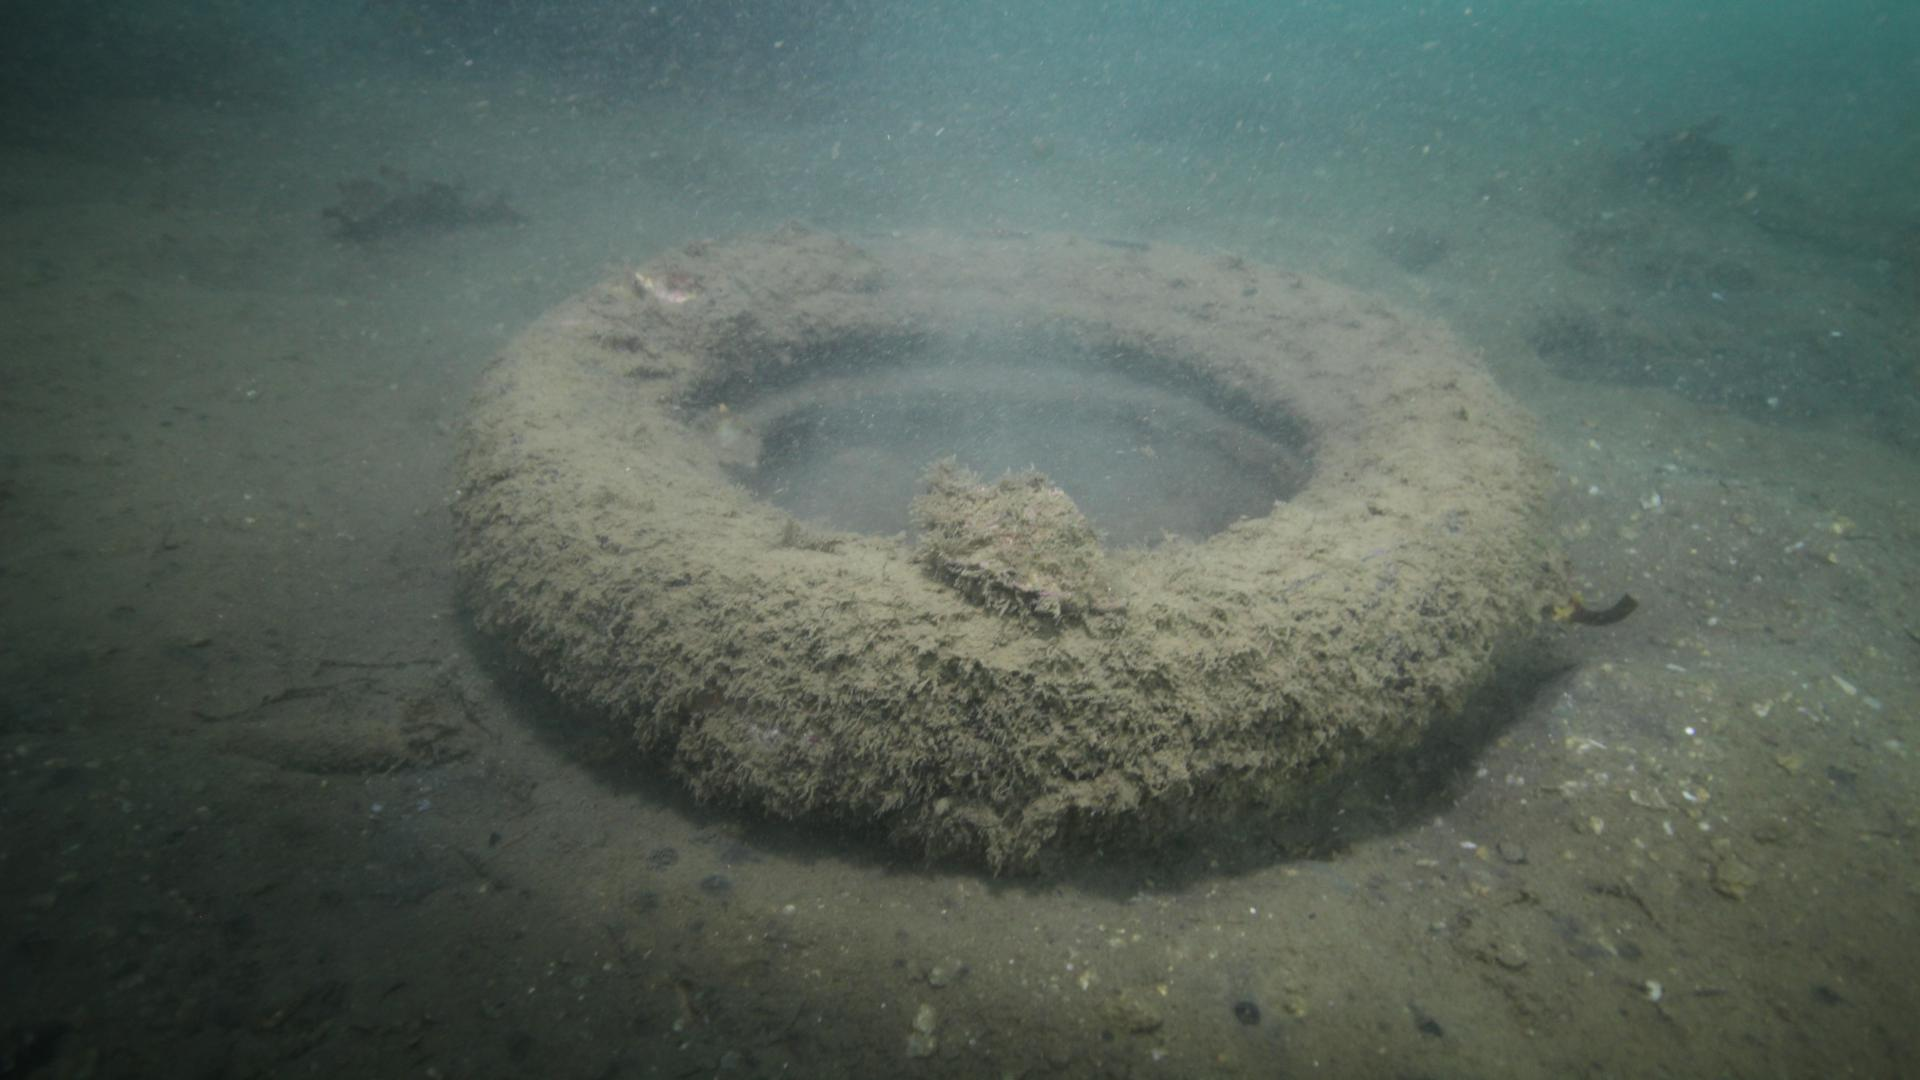tire: (451, 225, 1549, 862)
